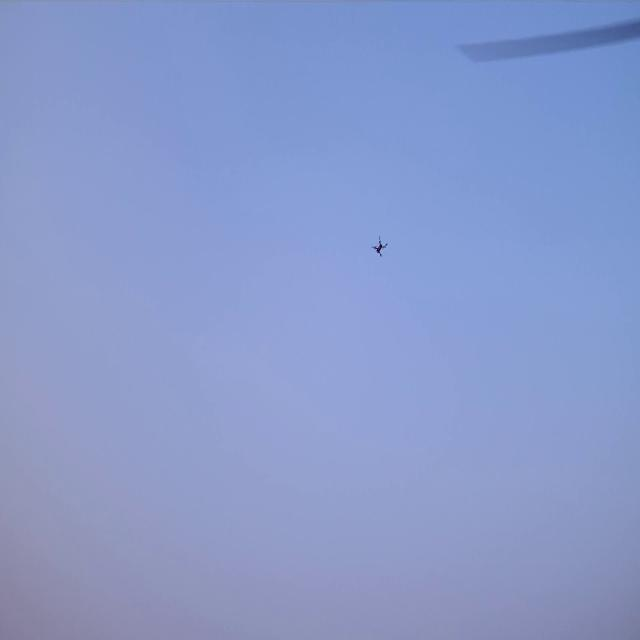UAV: (374, 240, 386, 256)
